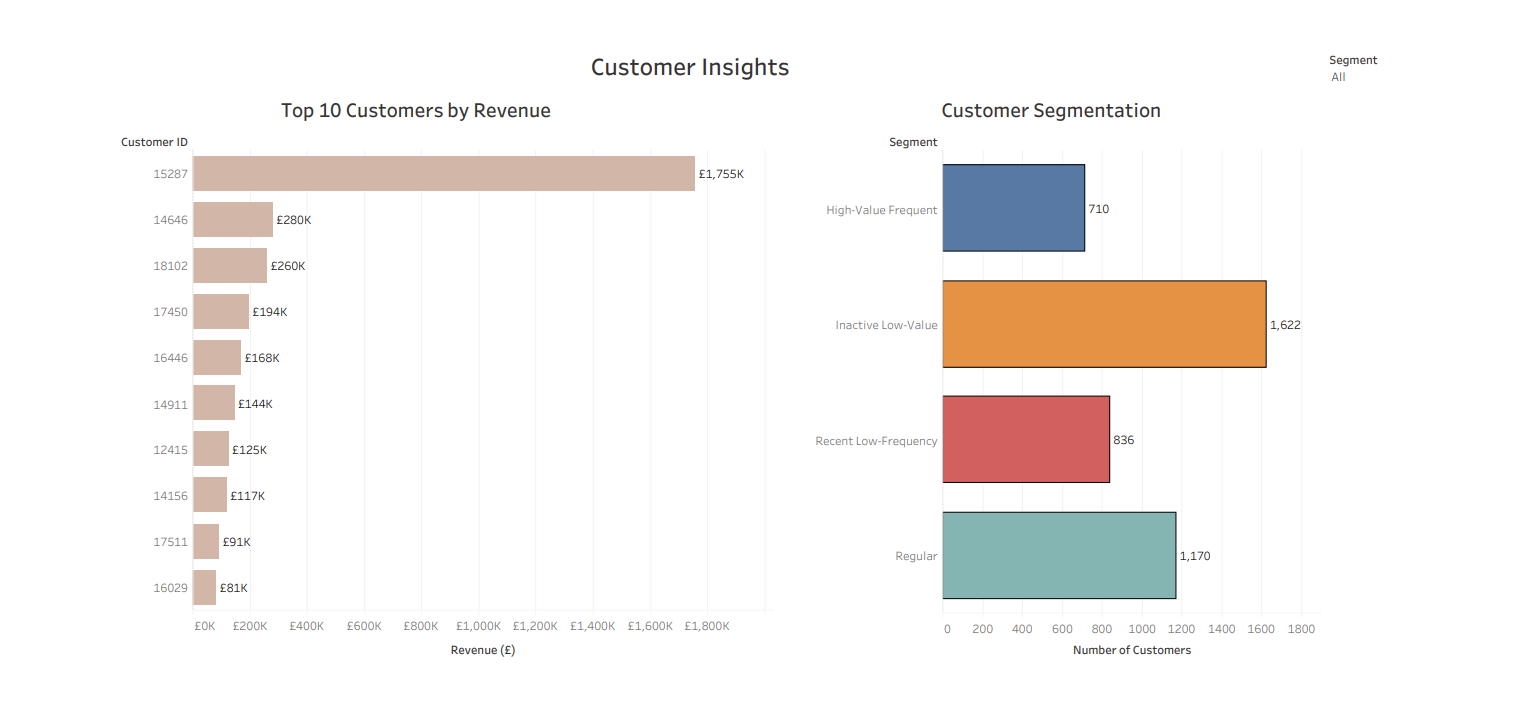

This screenshot's page, from the dashboard's own definition file:
{"tool":"tableau","page":{"name":"Customer Insights","canvas":[1000,1000],"units":"permille","ordinal":0},"visuals":[{"type":"title","box":[5.3,10.1,882.7,51.7]},{"type":"filter","title":"Customer Segmentation","param":"[federated.0w5kfy20rq7vdf1h7tq0211bntz9].[none:Segment:nk]","box":[888,10.1,106.7,65.6]},{"type":"worksheet","title":"Top Customers by Revenue","mark":"Automatic","rows":["CustomerID"],"cols":["Revenue"],"box":[5.3,61.8,502,928.1]},{"type":"worksheet","title":"Customer Segmentation","mark":"Automatic","rows":["Segment"],"cols":["CustomerID"],"box":[507.3,61.8,380.7,928.1]}]}

Visuals, with their boxes on the dashboard's canvas, which has no fixed pixel size, in thousandths of its width and height (x1, y1, x2, y2). These are canvas units, not pixel positions in the 1526x716 screenshot, which may show the page scaled, cropped or inside an application window:
title: 5, 10, 888, 62
"Customer Segmentation" filter: 888, 10, 995, 76
"Top Customers by Revenue" worksheet: 5, 62, 507, 990
"Customer Segmentation" worksheet: 507, 62, 888, 990
